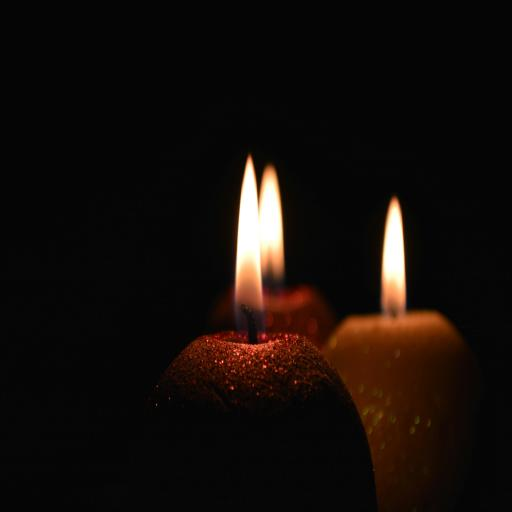candlelight: (222, 141, 356, 512), (365, 162, 484, 506)
fire: (375, 172, 421, 326), (230, 159, 274, 319), (260, 152, 296, 298)
